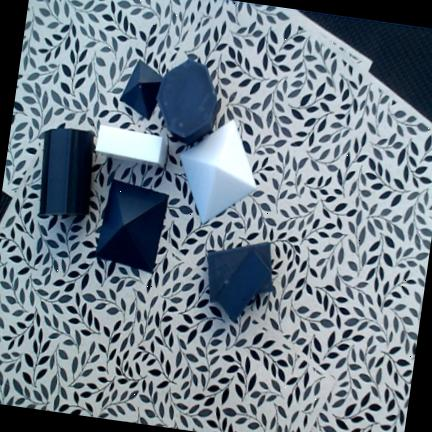Paralelepipedo: (216, 248, 272, 321), (207, 242, 273, 303), (95, 124, 167, 167)
Piramide: (179, 118, 257, 225), (96, 180, 168, 272), (120, 59, 162, 120)
Prisma_hexagonal: (156, 60, 218, 144), (39, 128, 93, 216)
